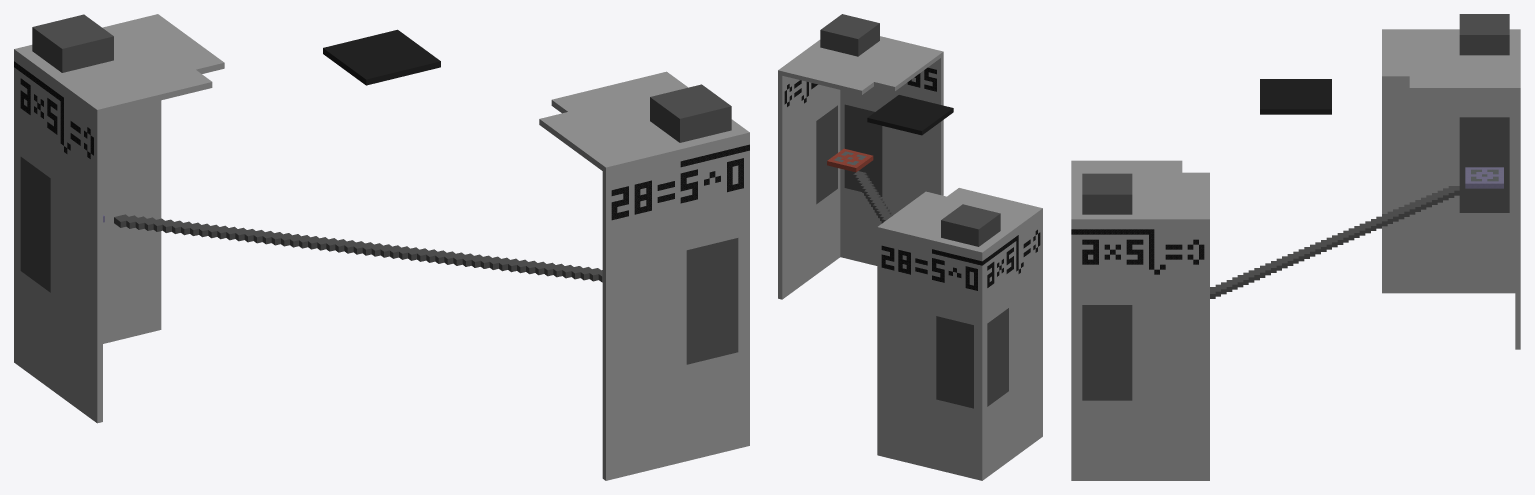
The model's file is minecraft.obj.
3 views of the same model, side by side, from view 1: azimuth 30°, elevation 25°; view 2: azimuth 150°, elevation 25°; view 3: azimuth 270°, elevation 25° (orthographic). The views are drawn at different scales.
Bounding box in the file's own units: 81 × 58 × 81.
